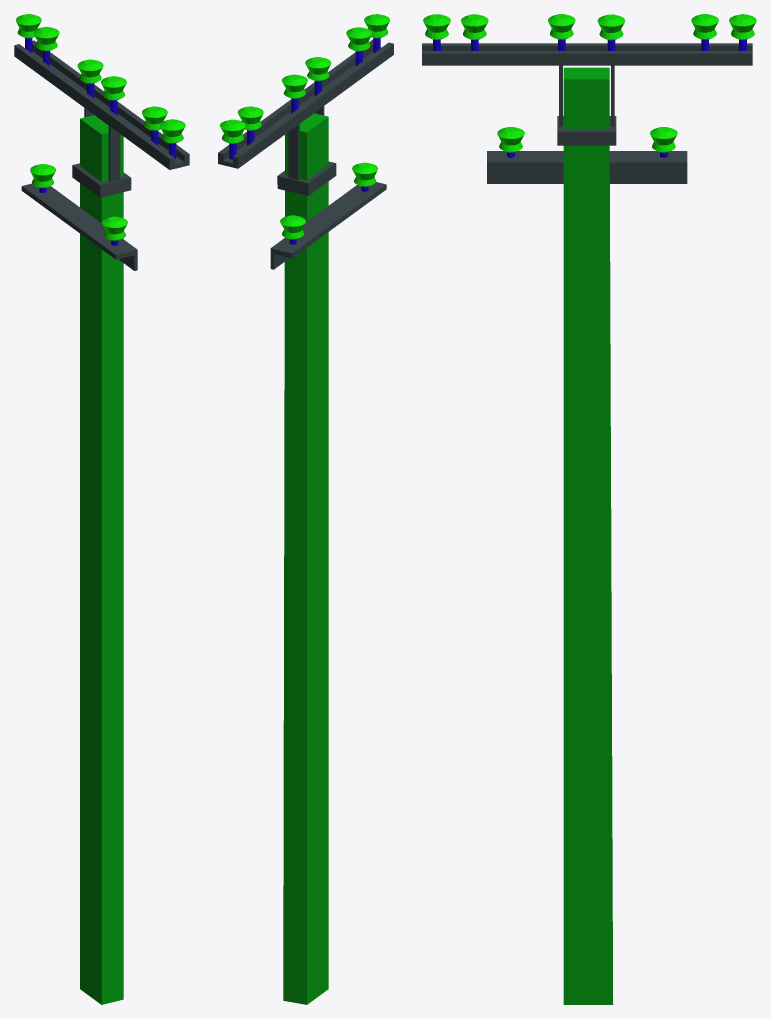
The model's file is electro.fbx.
The picture shows the model from 3 angles, left to right: view 1: azimuth 30°, elevation 25°; view 2: azimuth 150°, elevation 25°; view 3: azimuth 270°, elevation 25°; orthographic projection. The views are drawn at different scales.
Visible parts, largest first — view 1: power_LOD0; view 2: power_LOD0; view 3: power_LOD0.
Boxes of the visible parts, box(x1,y1,x2,y2) form: power_LOD0: box(14, 14, 189, 1004); power_LOD0: box(218, 14, 393, 1004); power_LOD0: box(422, 14, 756, 1004).
Size of what is drawn, in the model's own units: 239 by 4276 by 1320.
